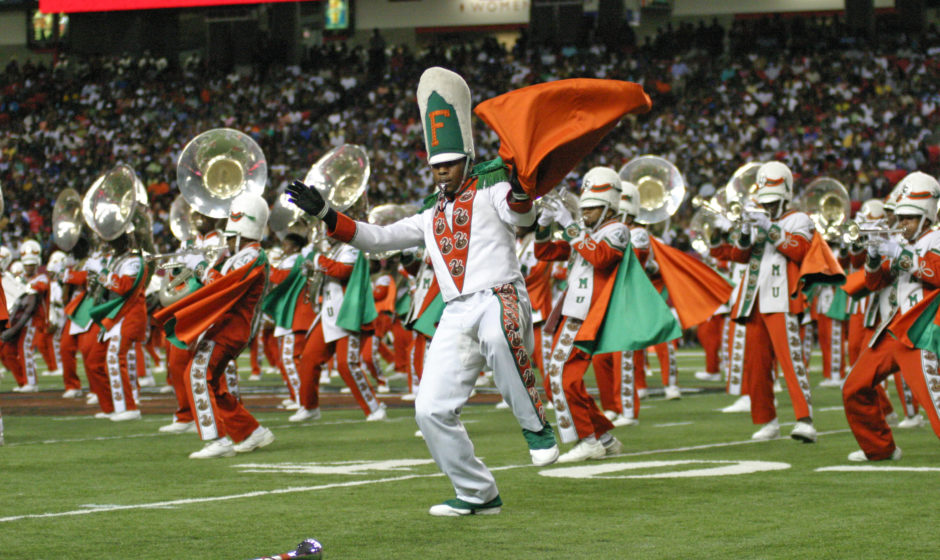feet: (419, 438, 504, 527), (847, 422, 940, 467), (194, 419, 279, 467), (293, 398, 394, 433), (551, 422, 626, 468), (745, 405, 825, 446), (158, 412, 225, 445), (95, 397, 144, 429), (56, 381, 106, 407), (634, 383, 690, 403), (272, 382, 304, 411), (10, 375, 39, 397), (38, 359, 64, 379)
